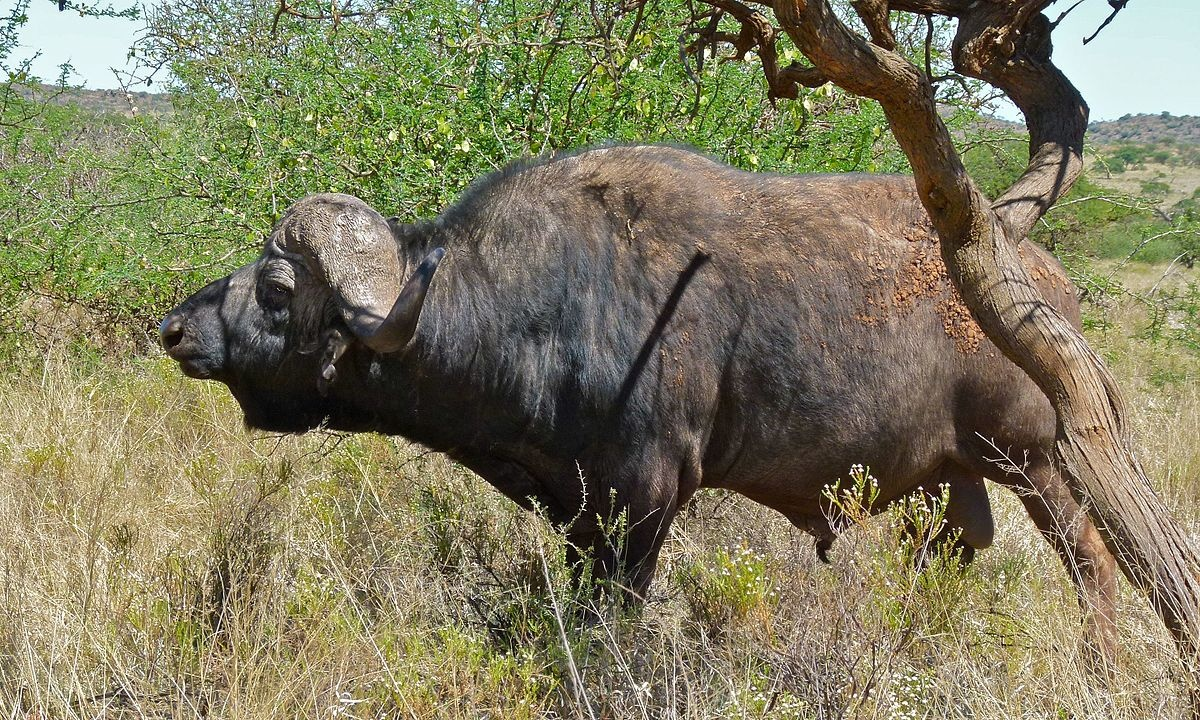buffalo: (162, 142, 1121, 680)
